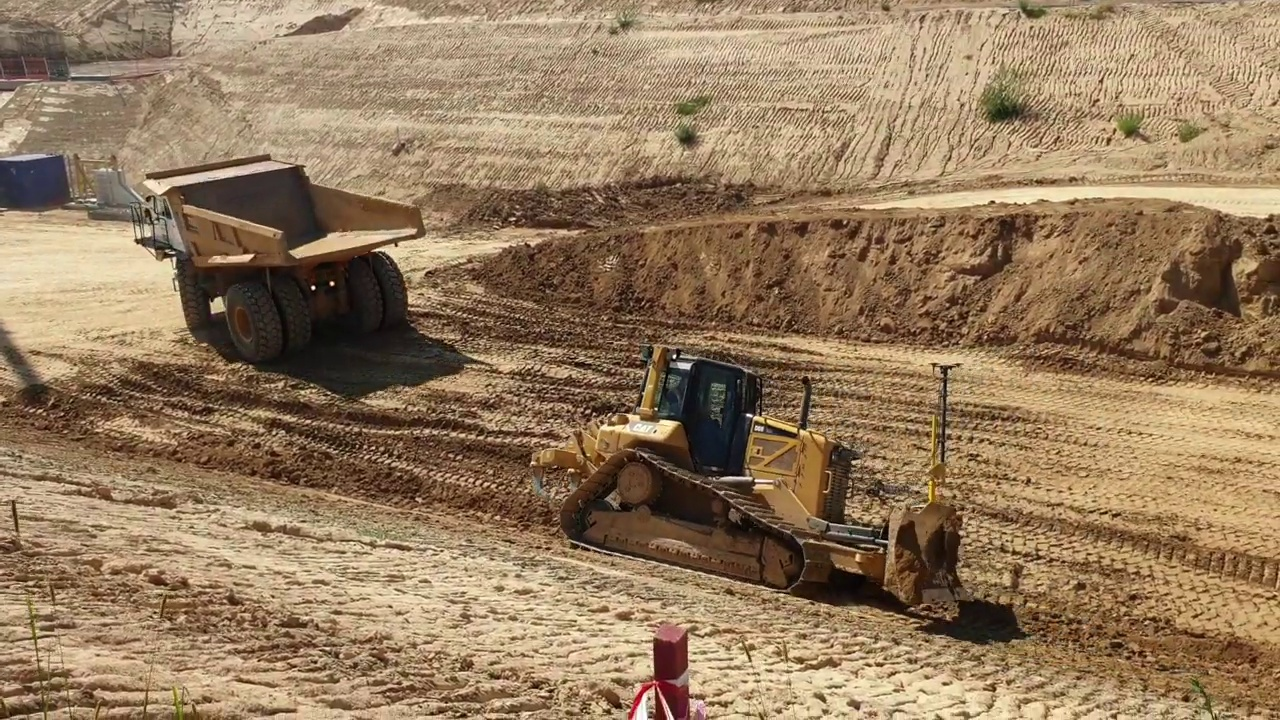bulldozer: (523, 341, 973, 630)
truck: (128, 147, 428, 364)
